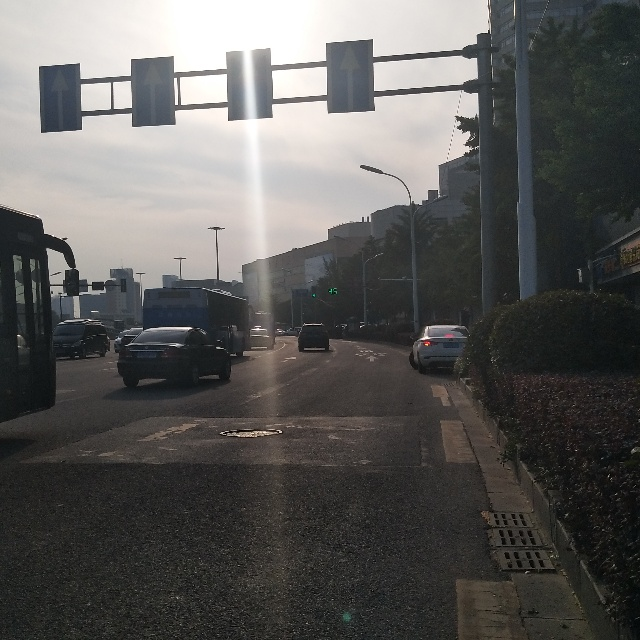straight: (328, 37, 366, 114), (44, 66, 80, 140), (136, 58, 171, 125)
